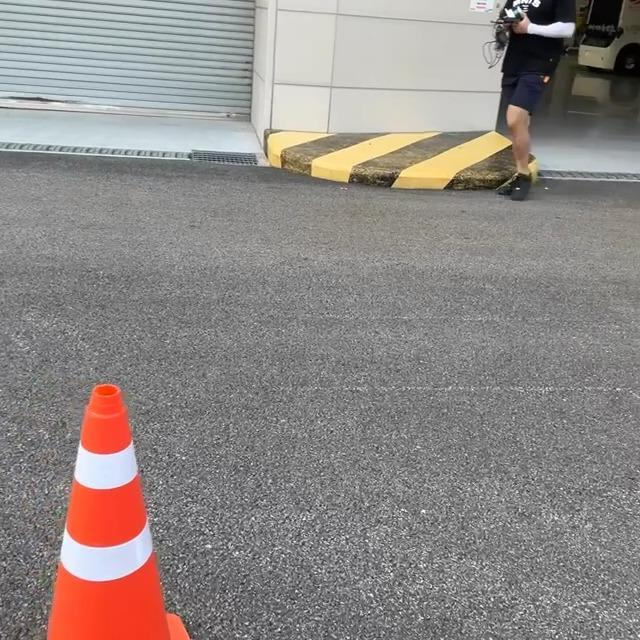fallen_object: (0, 360, 246, 640)
